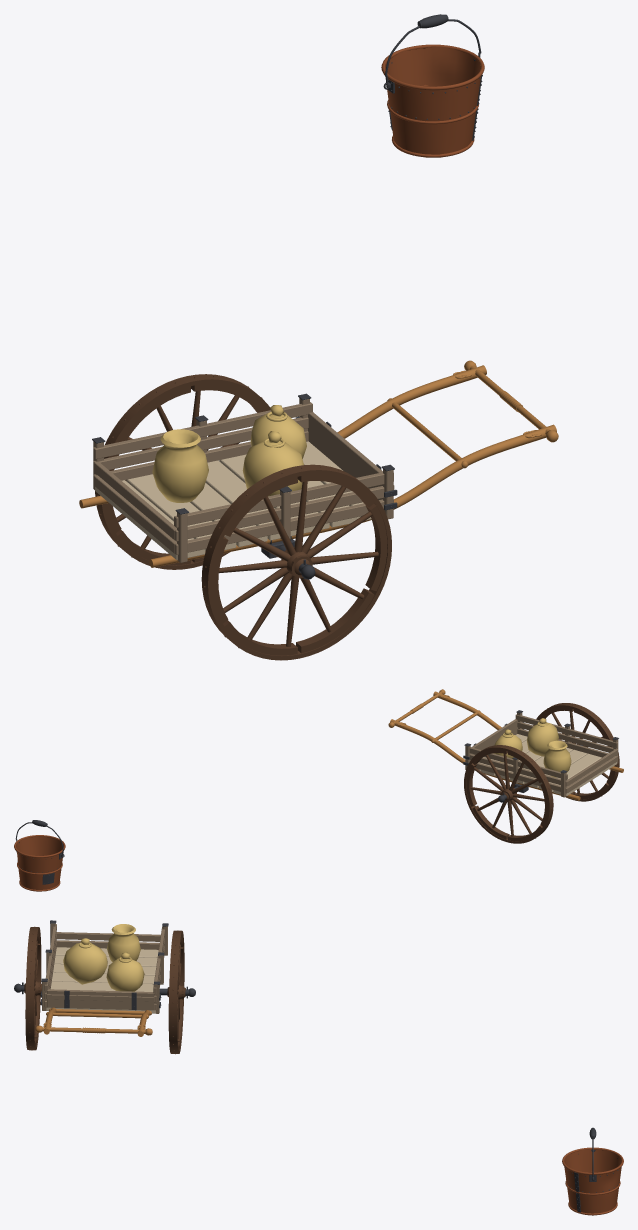
File: nomad_animal_pen_decor.fbx
3 renders of one model, top to bottom at view 1: azimuth 30°, elevation 25°; view 2: azimuth 150°, elevation 25°; view 3: azimuth 270°, elevation 25°, orthographic. The views are drawn at different scales.
Parts seen in each view (by area): view 1: C__Carry_Cart_Hand__01, C__Carry_Bucket_Metal__01; view 2: C__Carry_Cart_Hand__01, C__Carry_Bucket_Metal__01; view 3: C__Carry_Cart_Hand__01, C__Carry_Bucket_Metal__01.
Part boxes in pixels (<box>): C__Carry_Cart_Hand__01: <box>79,360,558,660</box>; C__Carry_Bucket_Metal__01: <box>381,14,484,157</box>; C__Carry_Cart_Hand__01: <box>388,689,623,843</box>; C__Carry_Bucket_Metal__01: <box>14,820,65,891</box>; C__Carry_Cart_Hand__01: <box>14,920,195,1054</box>; C__Carry_Bucket_Metal__01: <box>562,1127,623,1215</box>.
Size of the model in its own units: 631 by 147 by 719.
